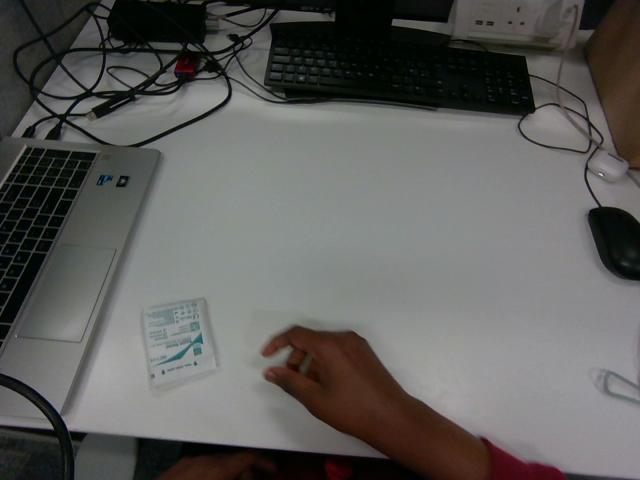gauze: (142, 298, 216, 388)
